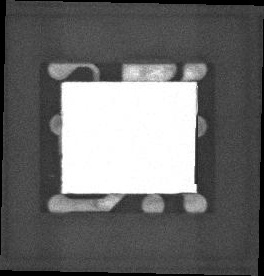DIE_BROKEN: (192, 114, 198, 184)
